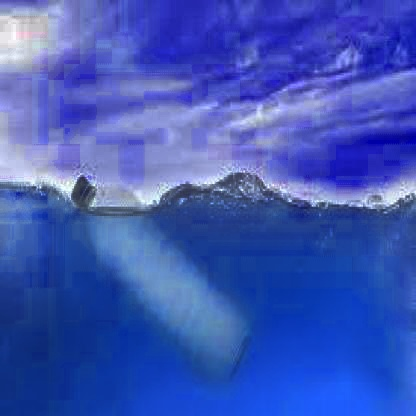pbottle: (71, 166, 256, 382)
